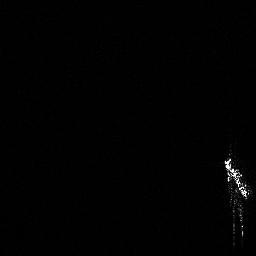ship: (221, 152, 256, 204)
